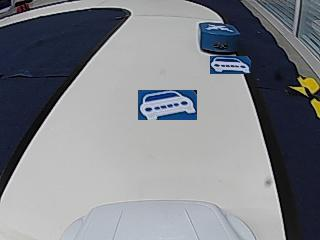prop: (199, 23, 240, 55)
